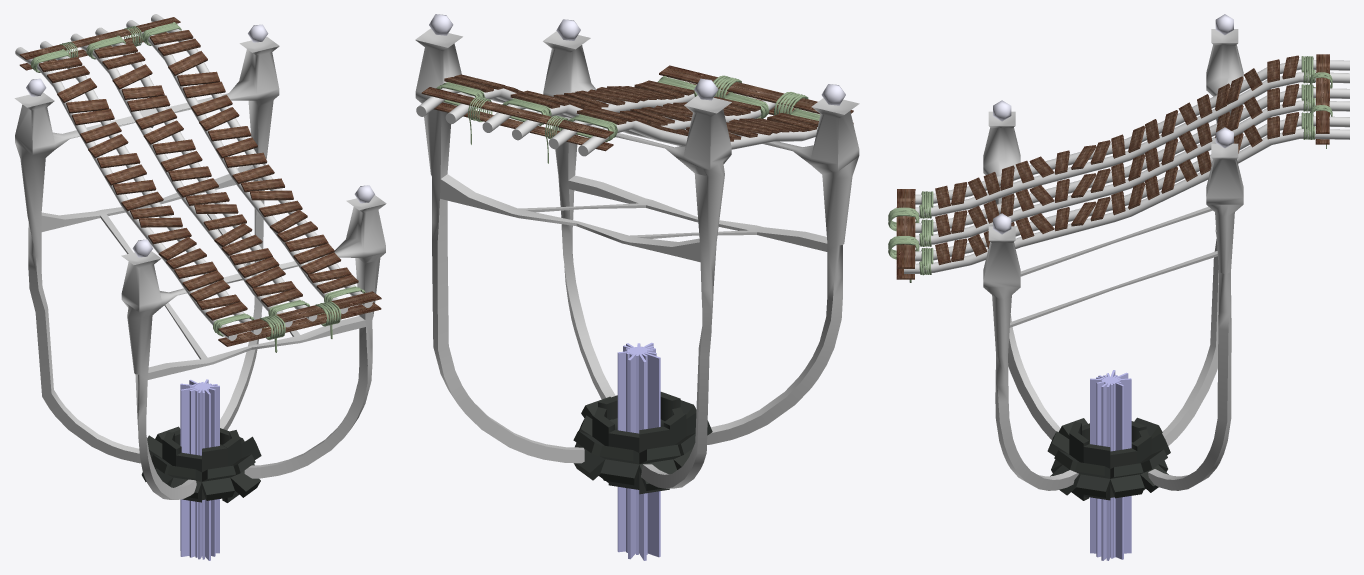
Rendered from 3_bridge_up.fbx.
3 renders of one model, left to right at view 1: azimuth 30°, elevation 25°; view 2: azimuth 150°, elevation 25°; view 3: azimuth 270°, elevation 25°, orthographic. The views are drawn at different scales.
Visible parts, largest first — view 1: 3_straightup_base, 3_straightup_LaL, 3_straightup_LaM, 3_straightup_LaR, gravityring, 3_straightup_verschlag, 3_straightup_verschlag02, 3_straightup_verschlag_ropes, 3_straightup_LaL_ropes, 3_straightup_LaR_ropes, 3_straightup_LaM_ropes; view 2: 3_straightup_base, gravityring, 3_straightup_LaL, 3_straightup_LaR, 3_straightup_LaM, 3_straightup_verschlag02, 3_straightup_verschlag, 3_straightup_LaM_ropes, 3_straightup_verschlag_ropes, 3_straightup_verschlag02_ropes, 3_straightup_LaL_ropes, 3_straightup_LaR_ropes; view 3: 3_straightup_base, gravityring, 3_straightup_LaL, 3_straightup_LaM, 3_straightup_LaR, 3_straightup_verschlag, 3_straightup_verschlag02, 3_straightup_verschlag_ropes, 3_straightup_LaR_ropes, 3_straightup_LaM_ropes, 3_straightup_LaL_ropes.
Boxes of the visible parts, x1,y1,x2,y2 form: 3_straightup_base: (14,24,386,499); 3_straightup_LaL: (15,41,261,340); 3_straightup_LaM: (70,27,317,327); 3_straightup_LaR: (126,14,372,313); gravityring: (141,379,261,560); 3_straightup_verschlag: (218,291,381,346); 3_straightup_verschlag02: (19,17,180,70); 3_straightup_verschlag_ropes: (260,301,341,352); 3_straightup_LaL_ropes: (31,49,254,336); 3_straightup_LaR_ropes: (142,22,365,302); 3_straightup_LaM_ropes: (86,35,309,315); 3_straightup_base: (415,14,859,488); gravityring: (573,342,712,560); 3_straightup_LaL: (548,107,818,156); 3_straightup_LaR: (416,74,694,123); 3_straightup_LaM: (482,90,775,140); 3_straightup_verschlag02: (421,87,613,151); 3_straightup_verschlag: (659,65,853,123); 3_straightup_LaM_ropes: (502,92,769,125); 3_straightup_verschlag_ropes: (713,75,808,115); 3_straightup_verschlag02_ropes: (468,96,568,163); 3_straightup_LaL_ropes: (568,108,820,141); 3_straightup_LaR_ropes: (436,76,697,109); 3_straightup_base: (983,14,1243,490); gravityring: (1047,370,1170,560); 3_straightup_LaL: (915,55,1349,217); 3_straightup_LaM: (915,83,1349,245); 3_straightup_LaR: (904,112,1349,273); 3_straightup_verschlag: (896,189,915,279); 3_straightup_verschlag02: (1315,54,1329,144); 3_straightup_verschlag_ropes: (888,207,919,282); 3_straightup_LaR_ropes: (919,112,1315,275); 3_straightup_LaM_ropes: (919,84,1315,246); 3_straightup_LaL_ropes: (919,56,1315,218).
Size of what is drawn, in the model's own units: 82 by 143 by 124.
Materials: 7 (1 with a texture image).
